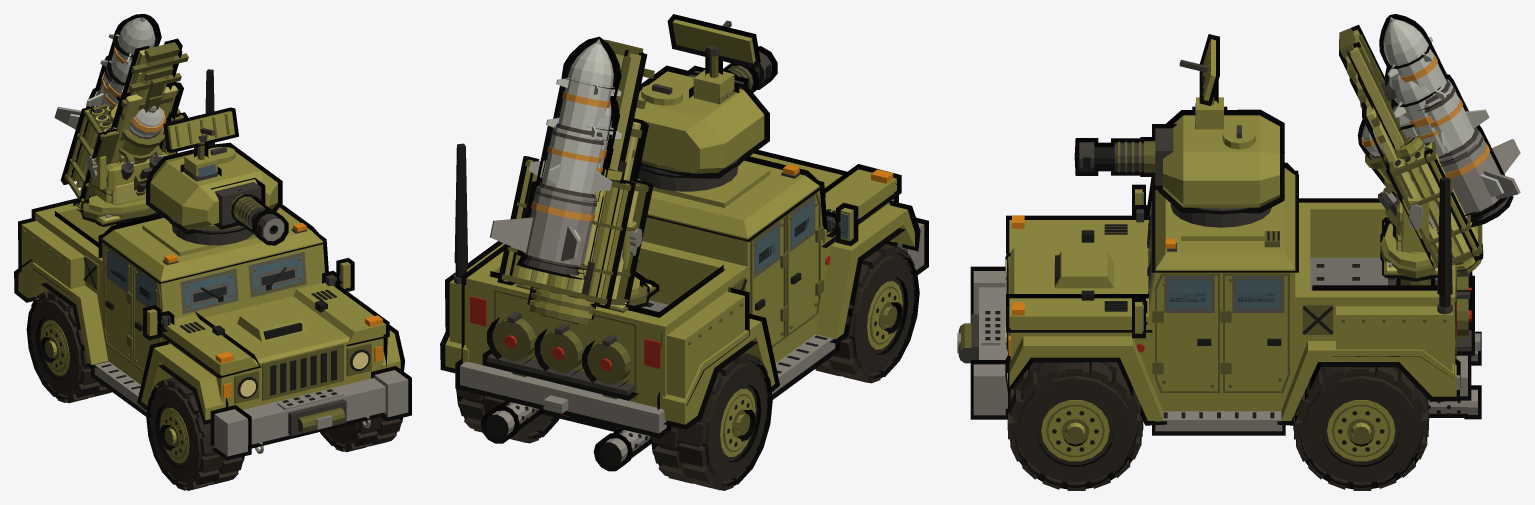
File: jackal_armored.glb
The picture shows the model from 3 angles, left to right: view 1: azimuth 30°, elevation 25°; view 2: azimuth 150°, elevation 25°; view 3: azimuth 270°, elevation 25°; orthographic projection. The views are drawn at different scales.
Visible parts, largest first — view 1: Armored_Hull, Armored_Turret, Armored_Wheel_R1, Armored_Wheel_R2, Armored_GlazingGlass, Armored_Gun, Armored_GlazingSlits, Armored_UpRadarDish, Armored_Wheel_L1, Armored_StageMissile3Nose, Armored_GradFloor, Armored_LauncherRail-1 (+11 smaller); view 2: Armored_Hull, Armored_Turret, Armored_Wheel_R2, Armored_Wheel_R1, Armored_UpMines, Armored_StageMissile1, Armored_UpNitro, Armored_UpRadarDish, Armored_StageMissile2, Armored_StageMissile3, Armored_StageMissile3Nose, Armored_GlazingGlass (+18 smaller); view 3: Armored_Hull, Armored_Wheel_L1, Armored_Wheel_L2, Armored_Turret, Armored_GlazingGlass, Armored_Gun, Armored_StageMissile1, Armored_StageMissile3Nose, Armored_StageMissile2, Armored_UpMines, Armored_UpRadarDish, Armored_UpNitro (+13 smaller).
Part boxes in pixels (box(x1,y1,x2,y2)): Armored_Hull: box(14, 198, 411, 460); Armored_Turret: box(146, 142, 282, 234); Armored_Wheel_R1: box(146, 377, 244, 490); Armored_Wheel_R2: box(26, 291, 111, 403); Armored_GlazingGlass: box(106, 247, 306, 314); Armored_Gun: box(211, 178, 288, 245); Armored_GlazingSlits: box(105, 249, 305, 312); Armored_UpRadarDish: box(163, 107, 238, 152); Armored_Wheel_L1: box(320, 417, 402, 452); Armored_StageMissile3Nose: box(113, 14, 161, 57); Armored_GradFloor: box(78, 112, 187, 204); Armored_LauncherRail-1: box(110, 92, 142, 163); Armored_Hull: box(440, 150, 928, 438); Armored_Turret: box(634, 65, 769, 178); Armored_Wheel_R2: box(650, 353, 772, 490); Armored_Wheel_R1: box(815, 244, 919, 383); Armored_UpMines: box(482, 311, 638, 400); Armored_StageMissile1: box(516, 181, 603, 269); Armored_UpNitro: box(480, 401, 651, 471); Armored_UpRadarDish: box(667, 14, 760, 68); Armored_StageMissile2: box(535, 125, 611, 201); Armored_StageMissile3: box(551, 71, 618, 140); Armored_StageMissile3Nose: box(561, 36, 621, 89); Armored_GlazingGlass: box(753, 196, 815, 278); Armored_Hull: box(957, 162, 1480, 435); Armored_Wheel_L1: box(1007, 362, 1143, 490); Armored_Wheel_L2: box(1293, 367, 1429, 490); Armored_Turret: box(1158, 109, 1284, 214); Armored_GlazingGlass: box(1147, 215, 1284, 312); Armored_Gun: box(1074, 124, 1176, 189); Armored_StageMissile1: box(1439, 125, 1507, 219); Armored_StageMissile3Nose: box(1379, 14, 1431, 68); Armored_StageMissile2: box(1423, 74, 1478, 162); Armored_UpMines: box(1455, 271, 1474, 355); Armored_UpRadarDish: box(1179, 34, 1219, 105); Armored_UpNitro: box(1428, 331, 1481, 419).
Bounding box in the file's own units: 2.37 × 3.64 × 4.44.
